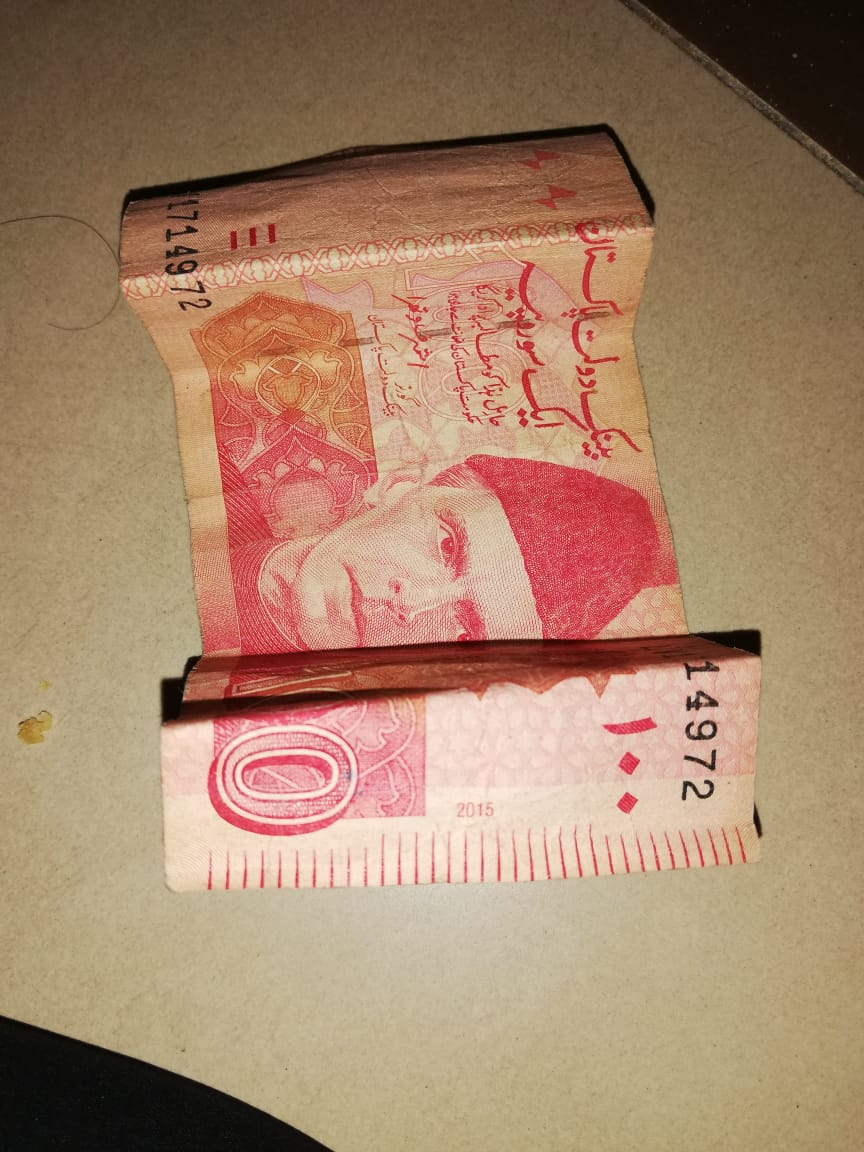100 rupee: (99, 113, 763, 914)
